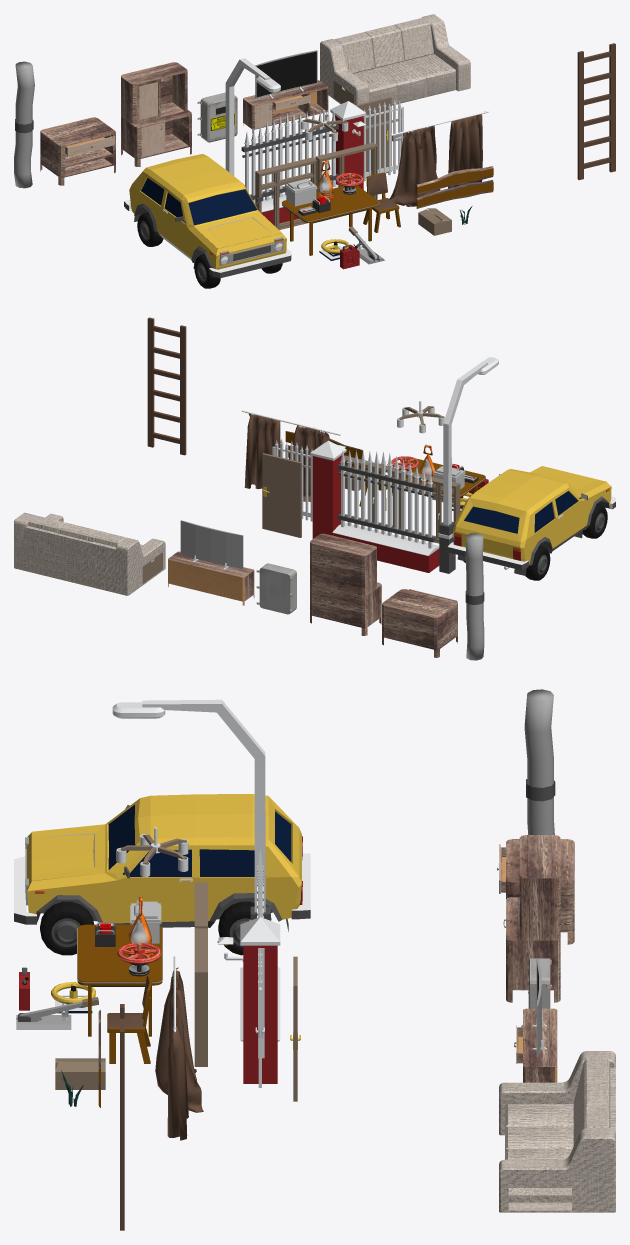
File: AssetBro.fbx
3 views of the same model, one above another, from view 1: azimuth 30°, elevation 25°; view 2: azimuth 150°, elevation 25°; view 3: azimuth 270°, elevation 25° (orthographic). The views are drawn at different scales.
Parts seen in each view (by area): view 1: Niva, Sofa_main, Zabor, Chest01_main, Lestnitsa, Cloth, Wardrobe02_main, Tube, Table, Wardrobe01_main, Chest02_main, Niva-Kapot (+23 smaller); view 2: Niva, Sofa_main, Zabor, Chest01_main, Wardrobe02_main, Door, Lestnitsa, Chest02_main, Zabor-Stolb, Stolb, Wardrobe01_main, Tube (+9 smaller); view 3: Niva, Sofa_main, Zabor-Stolb, Wardrobe02_main, Stolb, Tube, Table, Niva-Kapot, Wardrobe01_main, Cloth, Chest02_main, Chest01_main (+12 smaller).
Part boxes in pixels (left/top/right/bottom): Niva: left=124, top=154, right=291, bottom=288; Sofa_main: left=320, top=14, right=470, bottom=105; Zabor: left=241, top=110, right=338, bottom=224; Chest01_main: left=40, top=117, right=115, bottom=185; Lestnitsa: left=577, top=43, right=615, bottom=180; Cloth: left=389, top=125, right=440, bottom=206; Wardrobe02_main: left=121, top=62, right=187, bottom=123; Tube: left=14, top=61, right=34, bottom=188; Table: left=281, top=185, right=379, bottom=255; Wardrobe01_main: left=121, top=110, right=191, bottom=166; Chest02_main: left=243, top=80, right=328, bottom=133; Niva-Kapot: left=194, top=211, right=281, bottom=248; Niva: left=447, top=469, right=615, bottom=580; Sofa_main: left=14, top=512, right=165, bottom=595; Zabor: left=332, top=450, right=439, bottom=572; Chest01_main: left=382, top=589, right=457, bottom=657; Wardrobe02_main: left=310, top=533, right=376, bottom=595; Door: left=262, top=453, right=301, bottom=537; Lestnitsa: left=147, top=317, right=186, bottom=455; Chest02_main: left=168, top=551, right=254, bottom=605; Zabor-Stolb: left=310, top=440, right=346, bottom=538; Stolb: left=438, top=357, right=498, bottom=573; Wardrobe01_main: left=310, top=582, right=381, bottom=635; Tube: left=465, top=533, right=484, bottom=660; Niva: left=14, top=794, right=310, bottom=955; Sofa_main: left=499, top=1051, right=615, bottom=1212; Zabor-Stolb: left=240, top=917, right=280, bottom=1083; Wardrobe02_main: left=519, top=835, right=560, bottom=940; Stolb: left=112, top=699, right=271, bottom=920; Tube: left=524, top=689, right=555, bottom=834; Table: left=77, top=924, right=162, bottom=1036; Niva-Kapot: left=31, top=824, right=105, bottom=880; Wardrobe01_main: left=506, top=897, right=560, bottom=1002; Cloth: left=155, top=967, right=203, bottom=1112; Chest02_main: left=523, top=1008, right=557, bottom=1082; Chest01_main: left=506, top=839, right=574, bottom=944.
Bounding box in the file's own units: 1226 × 457 × 877.
